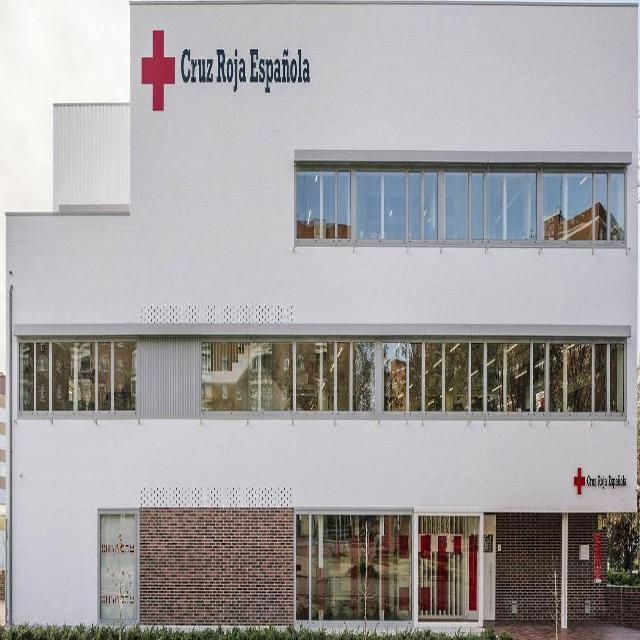door: (293, 514, 312, 626)
wall: (6, 5, 639, 625)
windows: (298, 165, 628, 250), (378, 331, 623, 417), (201, 332, 376, 413), (294, 514, 412, 626), (18, 340, 138, 419)
